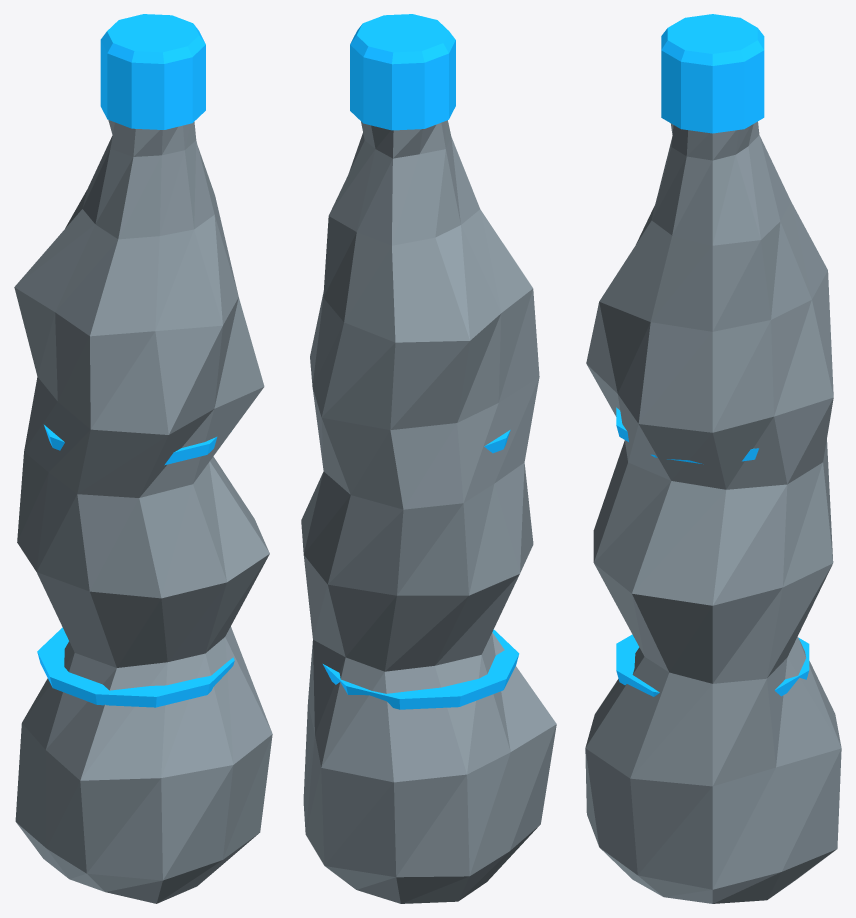
Rendered from PlasticBottle_Final.fbx.
The picture shows the model from 3 angles, left to right: view 1: azimuth 30°, elevation 25°; view 2: azimuth 150°, elevation 25°; view 3: azimuth 270°, elevation 25°; orthographic projection. The views are drawn at different scales.
Parts seen in each view (by area): view 1: PlasticBottle_Final; view 2: PlasticBottle_Final; view 3: PlasticBottle_Final.
Part boxes in pixels (bbox=[...]): PlasticBottle_Final: bbox=[14, 14, 272, 903]; PlasticBottle_Final: bbox=[301, 14, 556, 903]; PlasticBottle_Final: bbox=[585, 14, 841, 903].
Size of the model in its own units: 0.076 by 0.275 by 0.0758.
